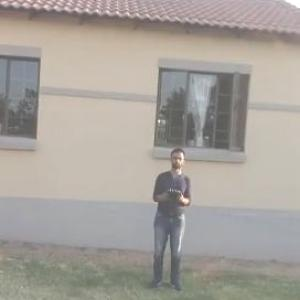follow: (147, 142, 194, 298)
